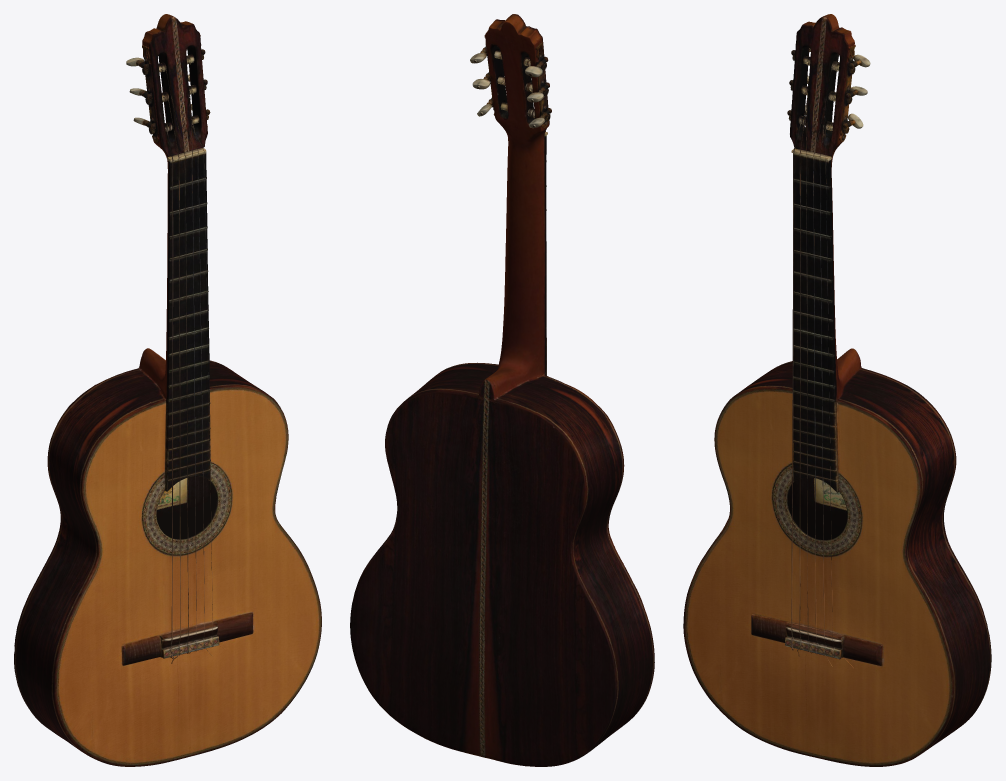
File: nmah-2018_0136_01-feliciano_guitar-100k-2048_std_draco.glb
3 views of the same model, side by side, from view 1: azimuth 30°, elevation 25°; view 2: azimuth 150°, elevation 25°; view 3: azimuth 330°, elevation 25° (orthographic).
Visible parts, largest first — view 1: Mesh_0.003; view 2: Mesh_0.003; view 3: Mesh_0.003.
Part boxes in pixels (box(x1,y1,x2,y2)): Mesh_0.003: box(14, 14, 321, 766); Mesh_0.003: box(350, 14, 654, 766); Mesh_0.003: box(683, 14, 991, 766).
Bounding box in the file's own units: 0.392 × 1.02 × 0.1202.
2 materials, 2 textured.
